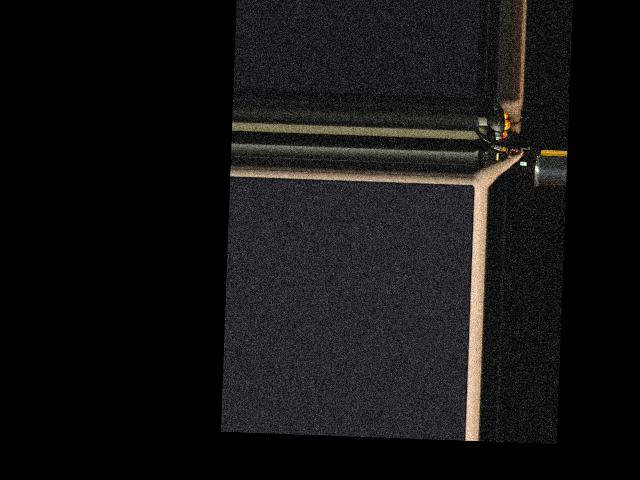beer: (490, 143, 523, 157)
